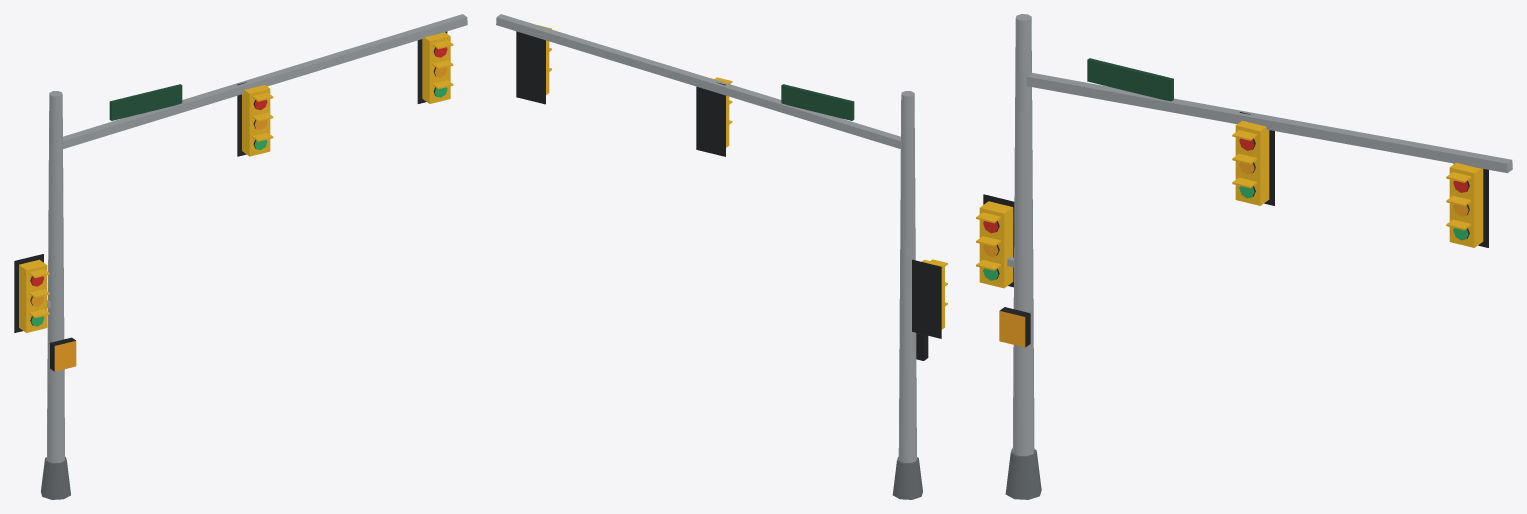
The model's file is sf_traffic_signal.glb.
3 views of the same model, side by side, from view 1: azimuth 30°, elevation 25°; view 2: azimuth 150°, elevation 25°; view 3: azimuth 330°, elevation 25° (orthographic). The views are drawn at different scales.
Parts seen in each view (by area): view 1: sf_traffic_signal; view 2: sf_traffic_signal; view 3: sf_traffic_signal.
Boxes of the visible parts, x1,y1,x2,y2 form: sf_traffic_signal: [14, 14, 467, 499]; sf_traffic_signal: [496, 14, 947, 499]; sf_traffic_signal: [976, 14, 1512, 499].
Size of the model in its own units: 8.19 by 7 by 0.6702.
Materials: 1 (1 with a texture image).
